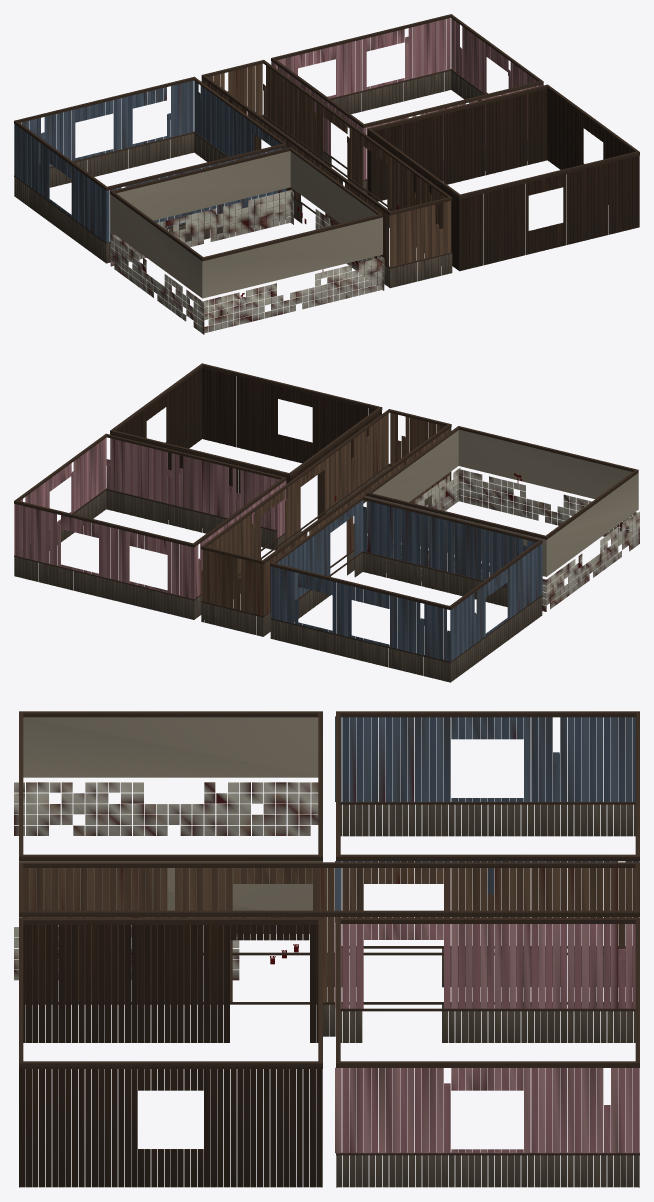
Rendered from FarmhouseInteriorUpper.glb.
The picture shows the model from 3 angles, top to bottom: view 1: azimuth 30°, elevation 25°; view 2: azimuth 150°, elevation 25°; view 3: azimuth 270°, elevation 25°; orthographic projection. The views are drawn at different scales.
Parts seen in each view (by area): view 1: FarmhouseInteriorUpper_panel_dark, FarmhouseInteriorUpper_plaster_raw, FarmhouseInteriorUpper_trim, FarmhouseInteriorUpper_tile, FarmhouseInteriorUpper_wood_old, FarmhouseInteriorUpper_paper_masterA, FarmhouseInteriorUpper_paper_masterB, FarmhouseInteriorUpper_paper_hallA, FarmhouseInteriorUpper_paper_hallB, FarmhouseInteriorUpper_paper_kidsA, FarmhouseInteriorUpper_paper_kidsB; view 2: FarmhouseInteriorUpper_wood_old, FarmhouseInteriorUpper_trim, FarmhouseInteriorUpper_panel_dark, FarmhouseInteriorUpper_paper_masterA, FarmhouseInteriorUpper_plaster_raw, FarmhouseInteriorUpper_paper_masterB, FarmhouseInteriorUpper_paper_kidsB, FarmhouseInteriorUpper_paper_kidsA, FarmhouseInteriorUpper_paper_hallA, FarmhouseInteriorUpper_paper_hallB, FarmhouseInteriorUpper_tile; view 3: FarmhouseInteriorUpper_panel_dark, FarmhouseInteriorUpper_trim, FarmhouseInteriorUpper_wood_old, FarmhouseInteriorUpper_plaster_raw, FarmhouseInteriorUpper_paper_kidsB, FarmhouseInteriorUpper_paper_kidsA, FarmhouseInteriorUpper_tile, FarmhouseInteriorUpper_paper_hallA, FarmhouseInteriorUpper_paper_hallB, FarmhouseInteriorUpper_paper_masterA, FarmhouseInteriorUpper_paper_masterB.
Boxes of the visible parts, x1,y1,x2,y2 form: FarmhouseInteriorUpper_panel_dark: (367, 89, 639, 271); FarmhouseInteriorUpper_plaster_raw: (110, 151, 382, 298); FarmhouseInteriorUpper_trim: (14, 14, 639, 268); FarmhouseInteriorUpper_tile: (110, 190, 384, 334); FarmhouseInteriorUpper_wood_old: (14, 71, 527, 288); FarmhouseInteriorUpper_paper_masterA: (14, 80, 285, 242); FarmhouseInteriorUpper_paper_masterB: (16, 81, 286, 242); FarmhouseInteriorUpper_paper_hallA: (201, 64, 451, 267); FarmhouseInteriorUpper_paper_hallB: (204, 64, 450, 266); FarmhouseInteriorUpper_paper_kidsA: (271, 18, 541, 179); FarmhouseInteriorUpper_paper_kidsB: (273, 19, 543, 180); FarmhouseInteriorUpper_wood_old: (14, 465, 542, 682); FarmhouseInteriorUpper_trim: (14, 363, 638, 663); FarmhouseInteriorUpper_panel_dark: (110, 367, 381, 528); FarmhouseInteriorUpper_paper_masterA: (270, 502, 540, 661); FarmhouseInteriorUpper_plaster_raw: (366, 429, 638, 576); FarmhouseInteriorUpper_paper_masterB: (275, 500, 542, 660); FarmhouseInteriorUpper_paper_kidsB: (19, 437, 286, 598); FarmhouseInteriorUpper_paper_kidsA: (14, 439, 285, 599); FarmhouseInteriorUpper_paper_hallA: (201, 414, 451, 616); FarmhouseInteriorUpper_paper_hallB: (202, 413, 447, 615); FarmhouseInteriorUpper_tile: (367, 467, 639, 611); FarmhouseInteriorUpper_panel_dark: (19, 925, 322, 1187); FarmhouseInteriorUpper_trim: (19, 711, 639, 1155); FarmhouseInteriorUpper_wood_old: (323, 804, 639, 1187); FarmhouseInteriorUpper_plaster_raw: (19, 717, 322, 917); FarmhouseInteriorUpper_paper_kidsB: (335, 923, 632, 1153); FarmhouseInteriorUpper_paper_kidsA: (342, 924, 639, 1153); FarmhouseInteriorUpper_tile: (14, 782, 318, 980); FarmhouseInteriorUpper_paper_hallA: (22, 868, 639, 1002); FarmhouseInteriorUpper_paper_hallB: (19, 868, 639, 1002); FarmhouseInteriorUpper_paper_masterA: (342, 717, 639, 894); FarmhouseInteriorUpper_paper_masterB: (335, 716, 632, 910).
Size of the model in its own units: 63 by 10.38 by 47.37.
